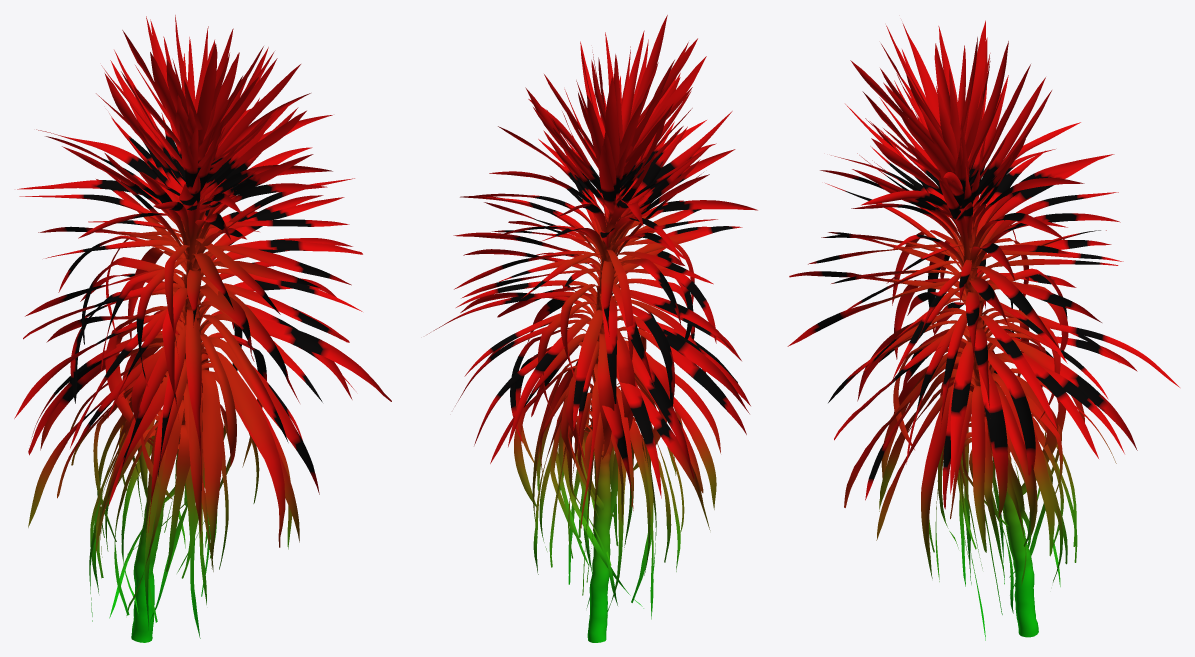
The model's file is Var3_LOD0.fbx.
3 views of the same model, side by side, from view 1: azimuth 30°, elevation 25°; view 2: azimuth 150°, elevation 25°; view 3: azimuth 270°, elevation 25° (orthographic). The views are drawn at different scales.
Parts seen in each view (by area): view 1: _6cgb_Var3_LOD0; view 2: _6cgb_Var3_LOD0; view 3: _6cgb_Var3_LOD0.
Boxes of the visible parts, x1,y1,x2,y2 form: _6cgb_Var3_LOD0: (14, 15, 391, 642); _6cgb_Var3_LOD0: (427, 15, 757, 642); _6cgb_Var3_LOD0: (787, 20, 1179, 640).
Bounding box in the file's own units: 107 × 200 × 117.
